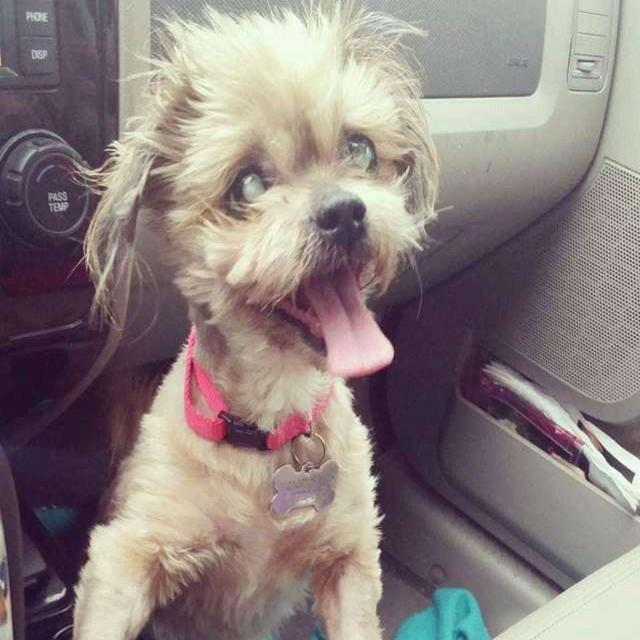eye: (224, 162, 272, 214), (336, 130, 383, 178)
